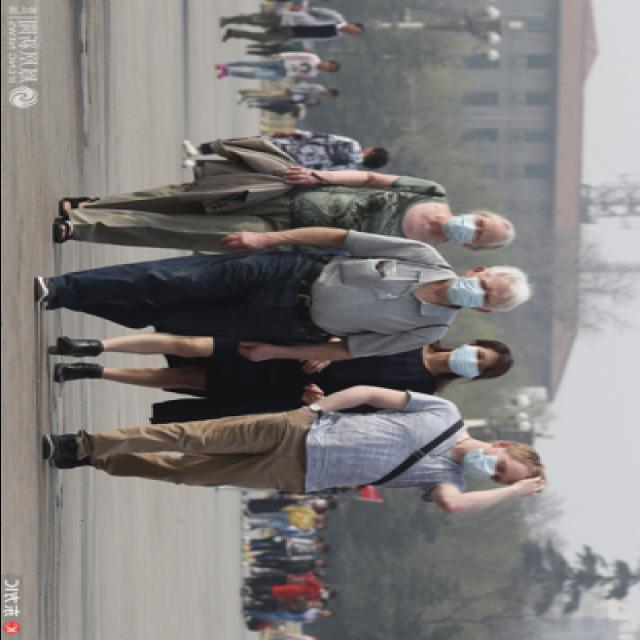mask: (458, 449, 511, 486), (444, 276, 498, 310), (444, 214, 492, 247), (447, 346, 488, 380)
no_mask: (346, 26, 364, 36), (322, 62, 338, 72)
